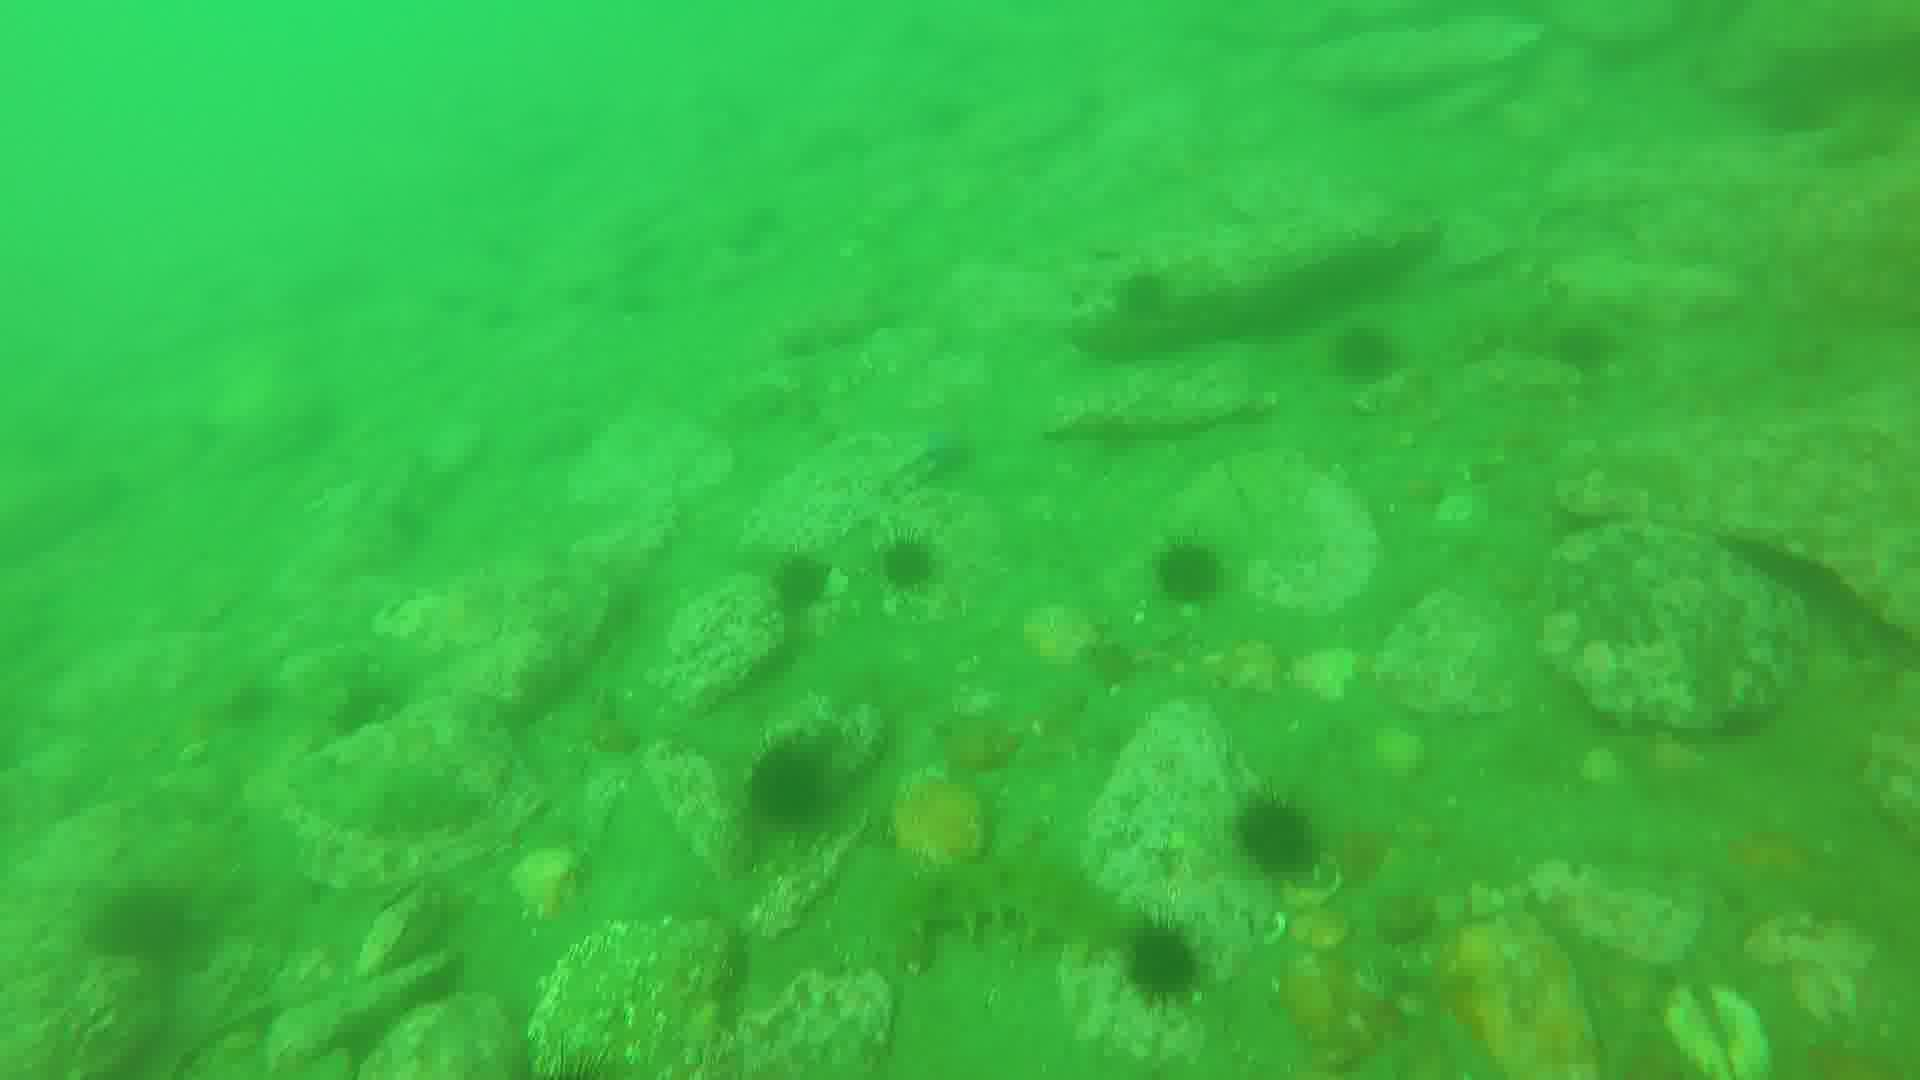echinus: (750, 740, 847, 832), (1241, 798, 1327, 885), (1133, 919, 1204, 1011), (1323, 324, 1412, 396), (1551, 313, 1626, 386), (1156, 535, 1226, 611), (870, 531, 938, 597), (770, 555, 848, 604), (1112, 273, 1174, 327)
holothurian: (907, 861, 1134, 943)
scallop: (1286, 645, 1367, 708)
